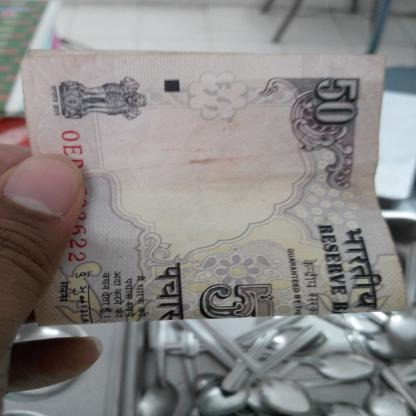Old50Front: (20, 49, 407, 327)
